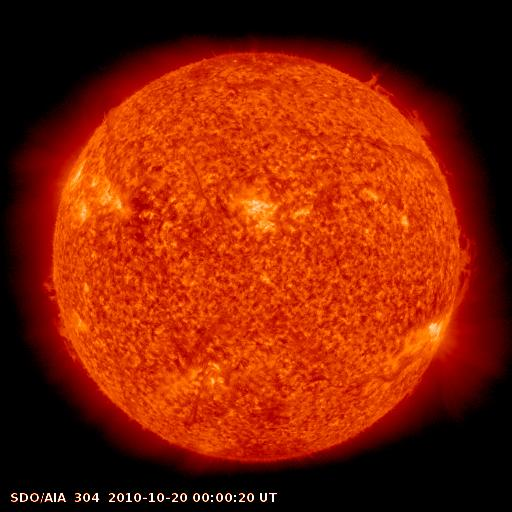prominence: (359, 63, 439, 145), (34, 266, 89, 367), (448, 214, 487, 317)
